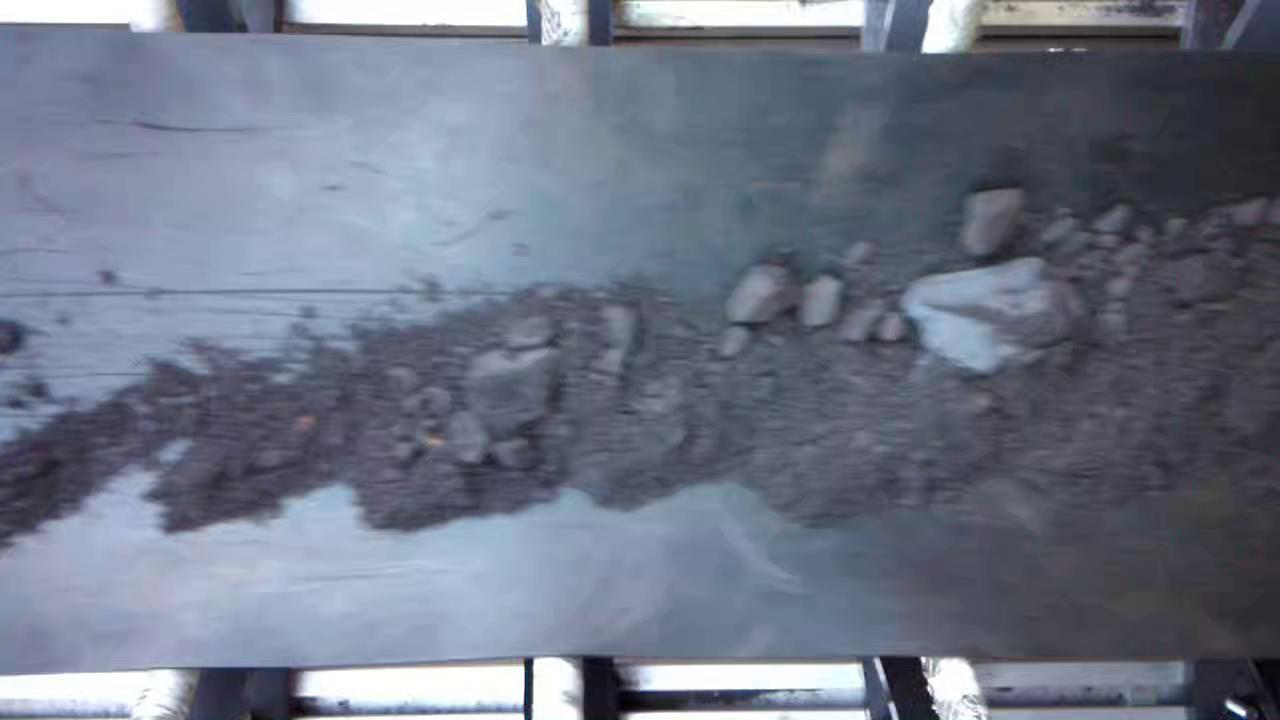conveyor: (3, 46, 1280, 654)
